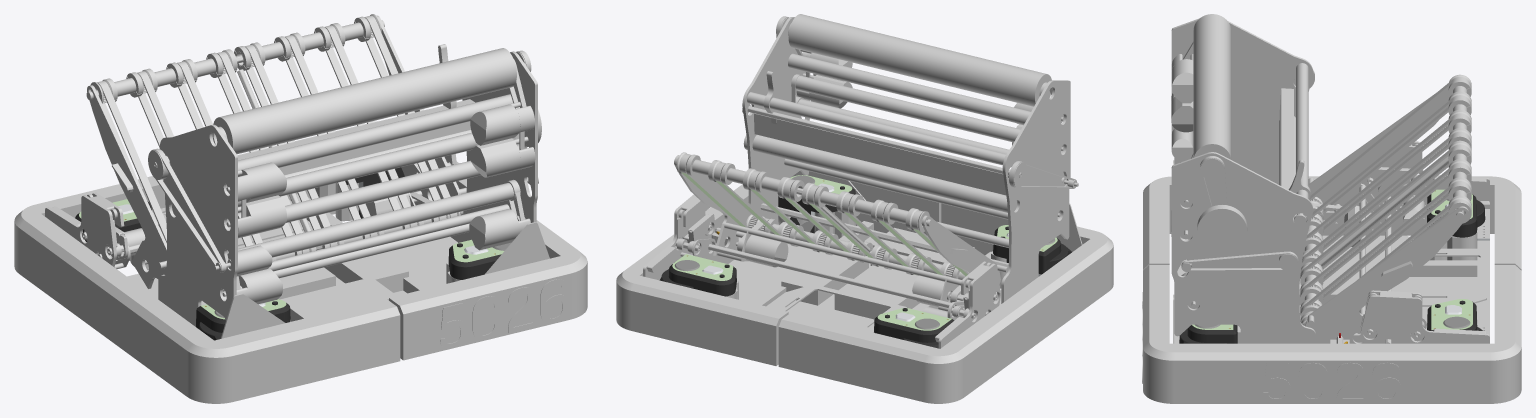
Rendered from robot.glb.
3 renders of one model, left to right at view 1: azimuth 30°, elevation 25°; view 2: azimuth 150°, elevation 25°; view 3: azimuth 270°, elevation 25°, orthographic. The views are drawn at different scales.
Parts seen in each view (by area): view 1: id506, id491, id171, id221, id391, SDS MK5n Top Assembly (A) (×4), id211, id916, id386, id381, id346, id166 (+32 smaller); view 2: id506, id491, id221, id171, SDS MK5n Top Assembly (A) (×4), id166, id116, id346, id211, id386, id411, id156 (+32 smaller); view 3: id491, id346, id221, id171, id906, id506, SDS MK5n Top Assembly (A) (×3), id706, id916, id16, id411, id846 (+24 smaller).
Boxes of the visible parts, x1,y1,x2,y2 form: id506: [14, 176, 400, 403]; id491: [237, 121, 587, 360]; id171: [213, 48, 516, 154]; id221: [158, 124, 237, 326]; id391: [238, 183, 513, 257]; SDS MK5n Top Assembly (A) (×4): [75, 167, 511, 340]; id211: [238, 94, 512, 170]; id916: [87, 85, 166, 288]; id386: [229, 132, 478, 206]; id381: [230, 160, 480, 228]; id346: [458, 51, 537, 242]; id166: [237, 99, 474, 175]; id506: [778, 226, 1113, 403]; id491: [616, 184, 941, 365]; id221: [1001, 80, 1070, 303]; id171: [788, 14, 1051, 106]; SDS MK5n Top Assembly (A) (×4): [659, 175, 1071, 348]; id166: [754, 113, 1008, 195]; id116: [752, 135, 1017, 212]; id346: [742, 17, 810, 221]; id211: [788, 53, 1030, 124]; id386: [796, 75, 1020, 142]; id411: [728, 237, 1001, 329]; id156: [747, 92, 1005, 165]; id491: [1142, 265, 1521, 403]; id346: [1171, 152, 1315, 343]; id221: [1171, 18, 1312, 184]; id171: [1193, 14, 1231, 159]; id906: [1305, 206, 1468, 343]; id506: [1143, 176, 1521, 270]; SDS MK5n Top Assembly (A) (×3): [1174, 189, 1489, 343]; id706: [1360, 295, 1489, 343]; id916: [1308, 88, 1449, 211]; id16: [1197, 205, 1247, 254]; id411: [1237, 235, 1477, 326]; id846: [1301, 144, 1470, 281].
Size of the model in its own units: 0.8643 by 0.6271 by 0.7627.
